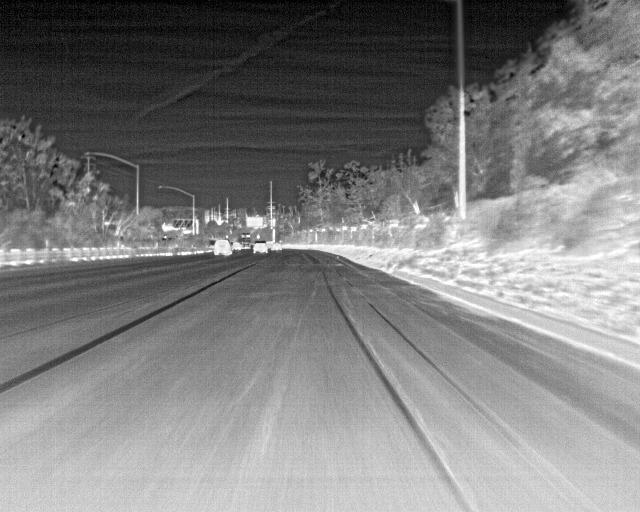car: (213, 239, 230, 255), (252, 240, 268, 254), (272, 242, 281, 253), (233, 242, 243, 251)
